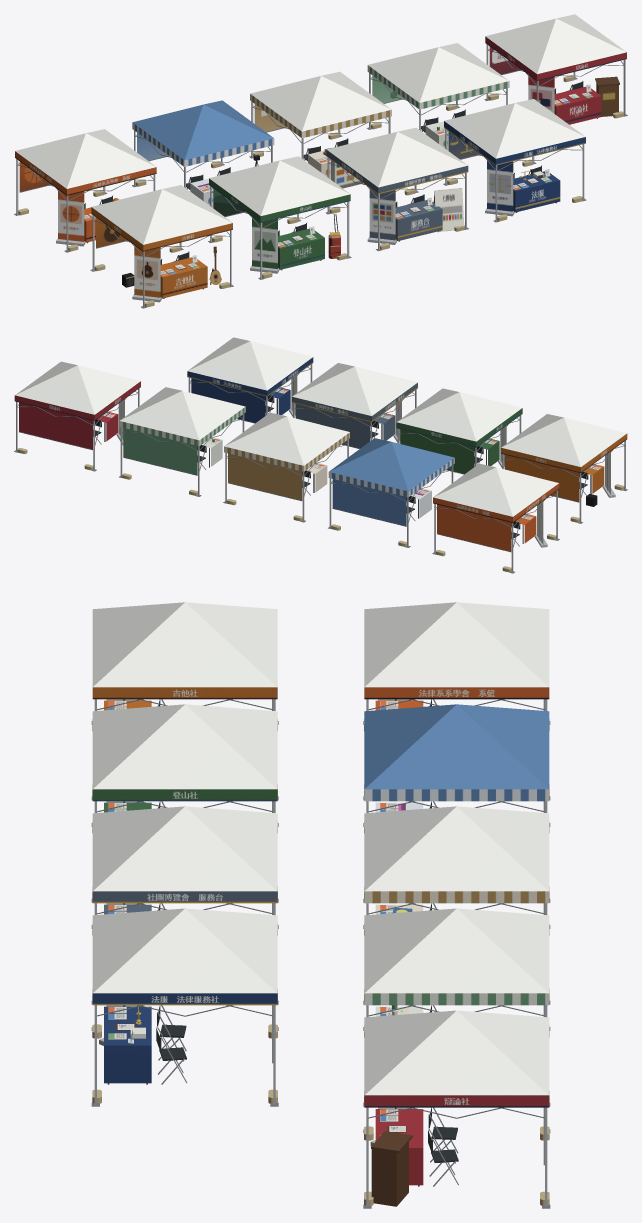
File: club_fair.glb
The picture shows the model from 3 angles, top to bottom: view 1: azimuth 30°, elevation 25°; view 2: azimuth 150°, elevation 25°; view 3: azimuth 270°, elevation 25°; orthographic projection. The views are drawn at different scales.
Parts seen in each view (by area): view 1: booth_info, booth_guitar, booth_hiking, booth_lawclub, booth_debate, booth_basketball, booth_bg1, booth_bg2, booth_bg3; view 2: booth_basketball, booth_debate, booth_bg1, booth_bg3, booth_bg2, booth_guitar, booth_lawclub, booth_hiking, booth_info; view 3: booth_debate, booth_lawclub, booth_basketball, booth_guitar, booth_bg1, booth_bg2, booth_bg3, booth_hiking, booth_info.
Boxes of the visible parts, left/top/right/bottom form: booth_info: left=325, top=127, right=468, bottom=251; booth_guitar: left=90, top=185, right=233, bottom=308; booth_hiking: left=208, top=156, right=351, bottom=279; booth_lawclub: left=443, top=99, right=586, bottom=222; booth_debate: left=484, top=14, right=627, bottom=124; booth_basketball: left=14, top=129, right=156, bottom=252; booth_bg1: left=132, top=100, right=274, bottom=207; booth_bg2: left=249, top=71, right=391, bottom=179; booth_bg3: left=367, top=43, right=509, bottom=150; booth_basketball: left=432, top=463, right=559, bottom=573; booth_debate: left=14, top=361, right=140, bottom=471; booth_bg1: left=328, top=438, right=454, bottom=547; booth_bg3: left=119, top=387, right=245, bottom=496; booth_bg2: left=223, top=412, right=349, bottom=522; booth_guitar: left=501, top=414, right=627, bottom=523; booth_lawclub: left=187, top=337, right=313, bottom=423; booth_hiking: left=396, top=388, right=522, bottom=474; booth_info: left=292, top=363, right=417, bottom=448; booth_debate: left=363, top=1010, right=550, bottom=1208; booth_lawclub: left=91, top=908, right=278, bottom=1106; booth_basketball: left=363, top=602, right=550, bottom=800; booth_guitar: left=91, top=602, right=278, bottom=800; booth_bg1: left=363, top=704, right=550, bottom=902; booth_bg2: left=363, top=806, right=550, bottom=1004; booth_bg3: left=363, top=908, right=550, bottom=1106; booth_hiking: left=91, top=704, right=278, bottom=902; booth_info: left=91, top=806, right=278, bottom=1004.
Bounding box in the file's own units: 19.1 × 2.91 × 7.6.
Materials: 1 (1 with a texture image).
